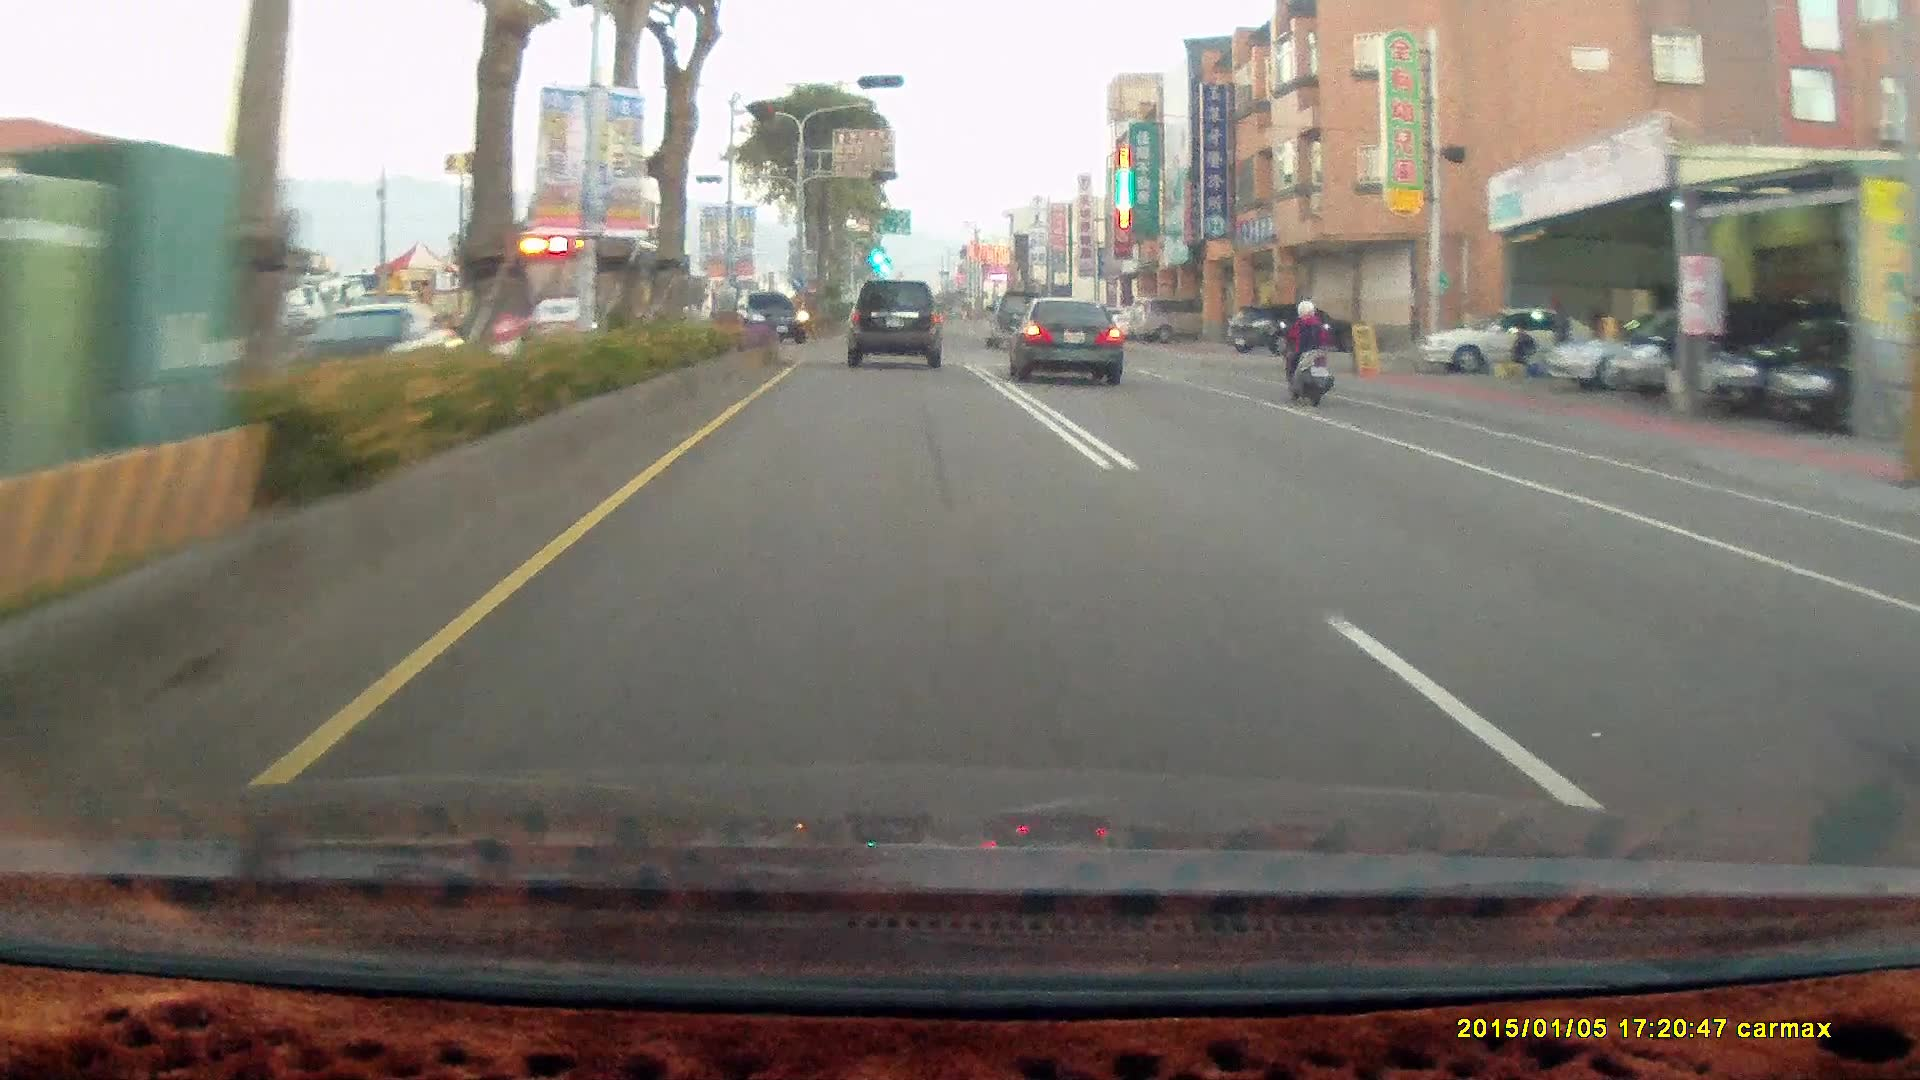pedestrian: (1547, 289, 1571, 369), (1508, 320, 1536, 374)
rider: (1269, 288, 1347, 413), (1276, 291, 1334, 398)
vehicle: (503, 232, 693, 354), (1701, 314, 1913, 416), (1709, 305, 1895, 417), (1611, 296, 1804, 396), (1548, 305, 1772, 390), (283, 301, 468, 403), (1547, 304, 1771, 389), (1772, 312, 1920, 431), (1774, 319, 1920, 437), (1407, 306, 1607, 381), (1417, 304, 1598, 373), (1015, 298, 1133, 393), (1004, 295, 1124, 384), (845, 280, 947, 371), (844, 277, 943, 365), (1226, 303, 1363, 356), (1223, 303, 1353, 356), (728, 290, 809, 347), (1125, 294, 1217, 343), (729, 290, 808, 345), (984, 289, 1049, 347)
